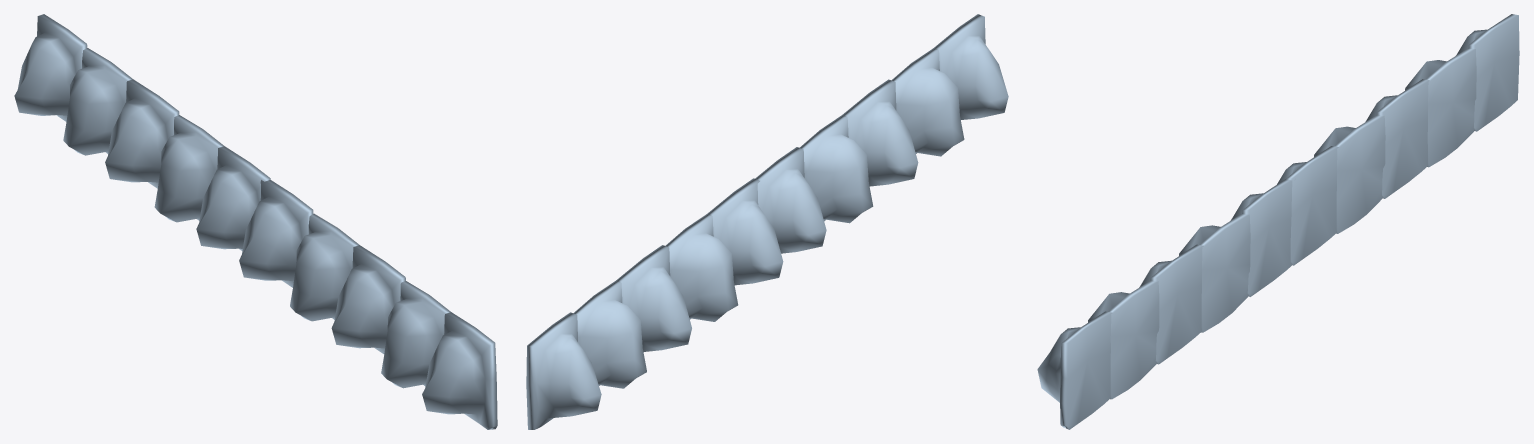
Rendered from Statues_Lign_02B_Lod1.fbx.
3 views of the same model, side by side, from view 1: azimuth 30°, elevation 25°; view 2: azimuth 150°, elevation 25°; view 3: azimuth 330°, elevation 25° (orthographic).
Visible parts, largest first — view 1: Statues_Lign_02B_Lod1; view 2: Statues_Lign_02B_Lod1; view 3: Statues_Lign_02B_Lod1.
Part boxes in pixels (x1,y1,x2,y2): Statues_Lign_02B_Lod1: [14, 14, 497, 429]; Statues_Lign_02B_Lod1: [526, 14, 1008, 429]; Statues_Lign_02B_Lod1: [1037, 14, 1519, 429].
Size of the model in its own units: 41.29 by 66.44 by 602.
